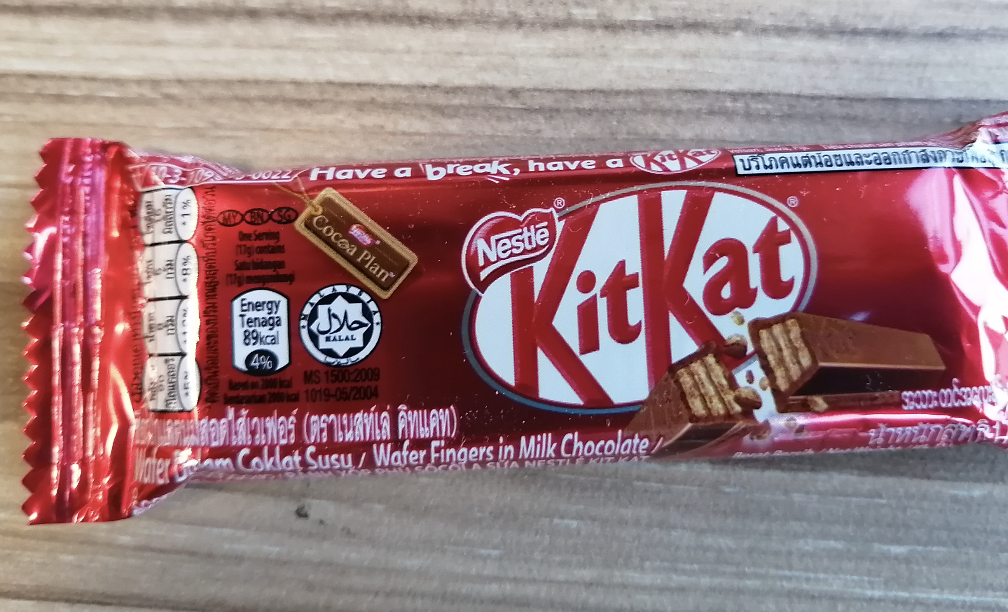Halal: (310, 297, 372, 360)
